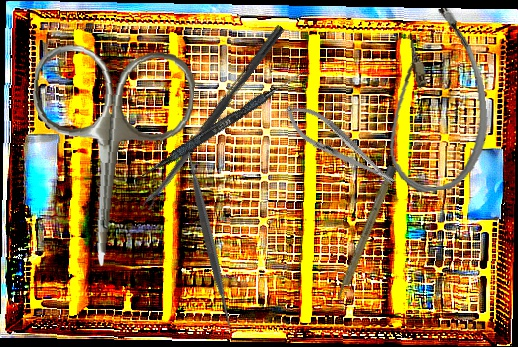Cannula: (373, 4, 496, 196)
Iris Scissors: (18, 41, 198, 274)
Needle Holder: (277, 95, 403, 197)
Scalpel Handle: (334, 165, 398, 302)
Spatula Surgical: (107, 134, 310, 337), (134, 63, 310, 187)
Surgical Spoon: (141, 23, 285, 211)
